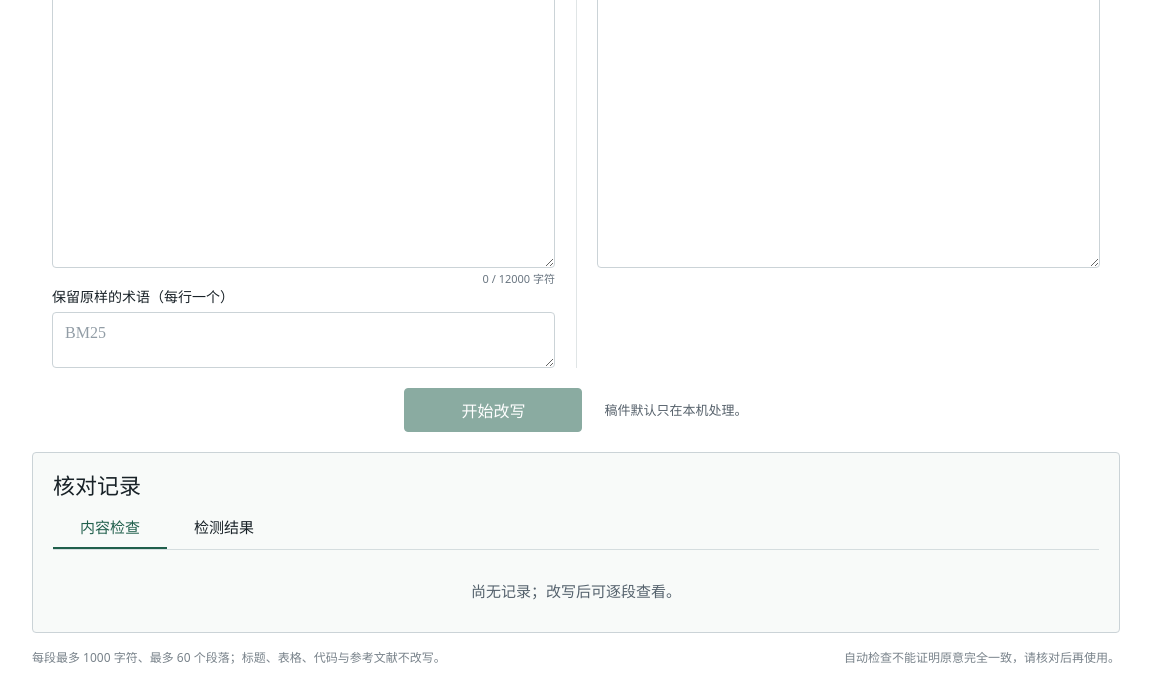
it: rechecks the edited text with current protected terms and displays the returned risks
(page scrolled)
In the text box labelled "保留原样的术语（每行一个）": (304, 340) [52,312,555,368], type "实验"
(page scrolled)
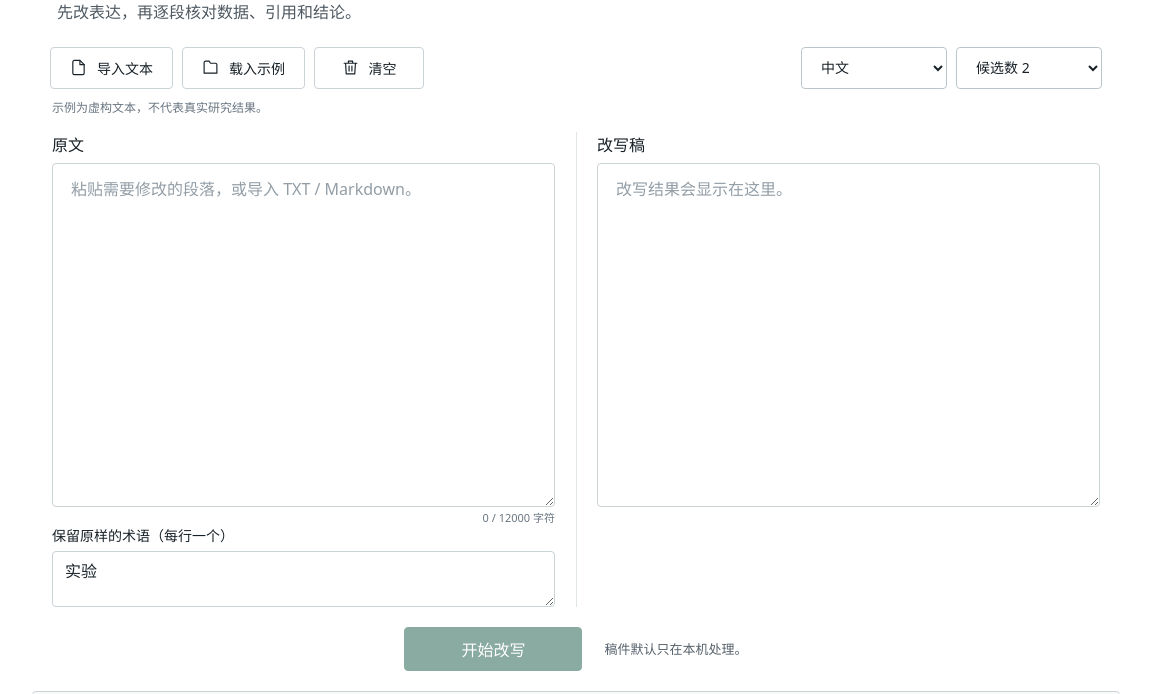
In the text box labelled "原文": (304, 335) [52,163,555,507], type "实验重复5次。"
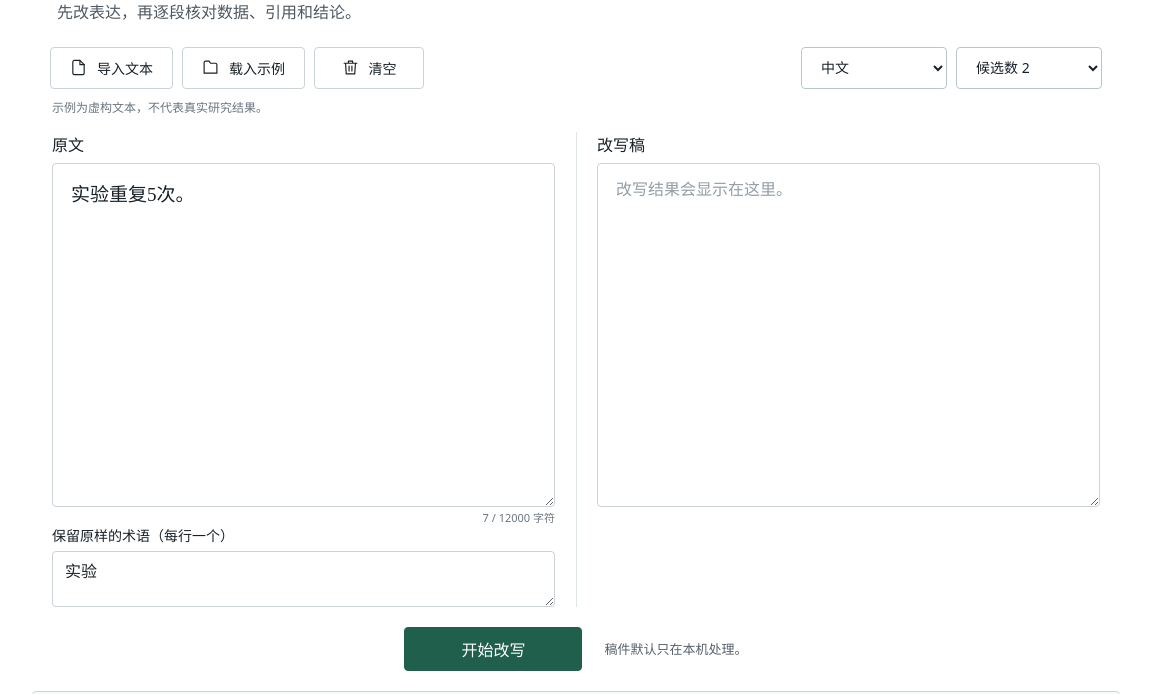
Click the button "开始改写": (494, 649) [404,627,582,671]
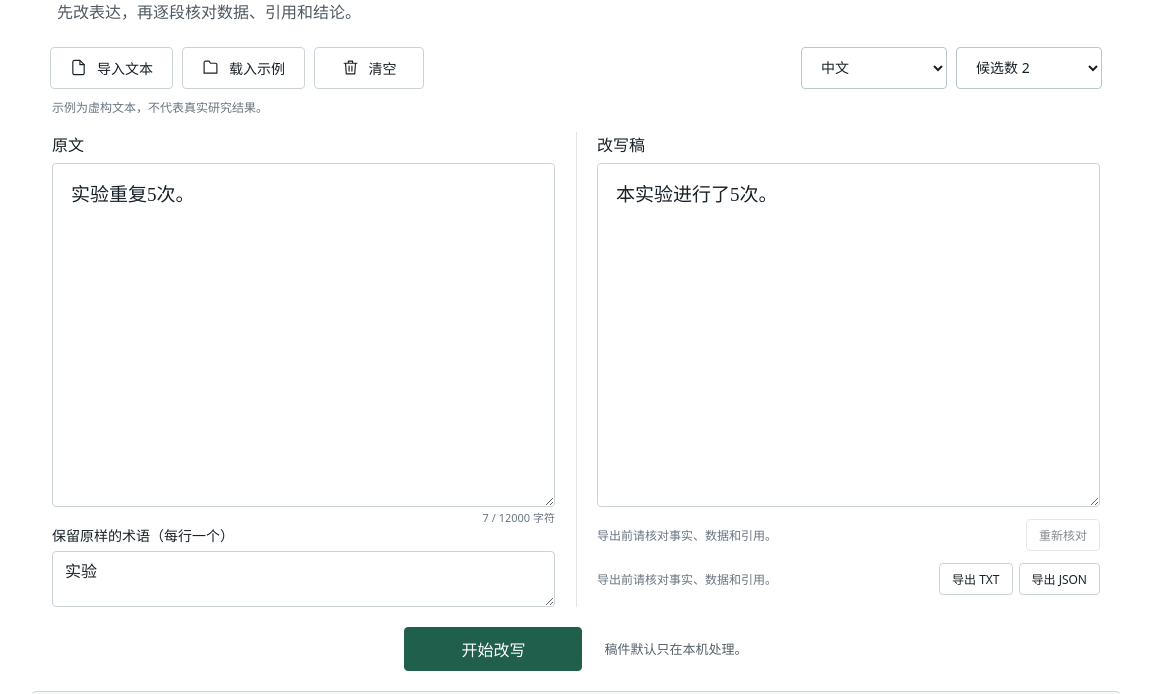
Check: the text box labelled "改写稿" holds "本实验进行了5次。"
Replace the text in the text box labelled "改写稿" with "用户修改后重复6次。": (848, 335) [597,163,1100,507]
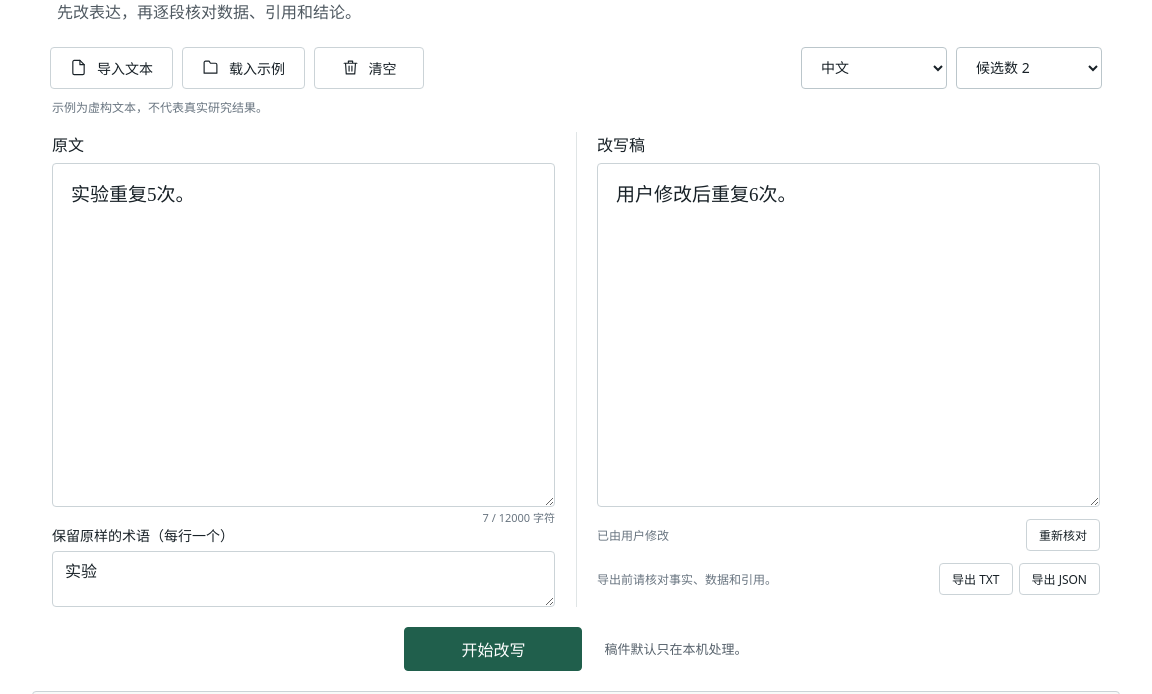
Click the button "重新核对": (1063, 535) [1026,519,1100,551]
(page scrolled)
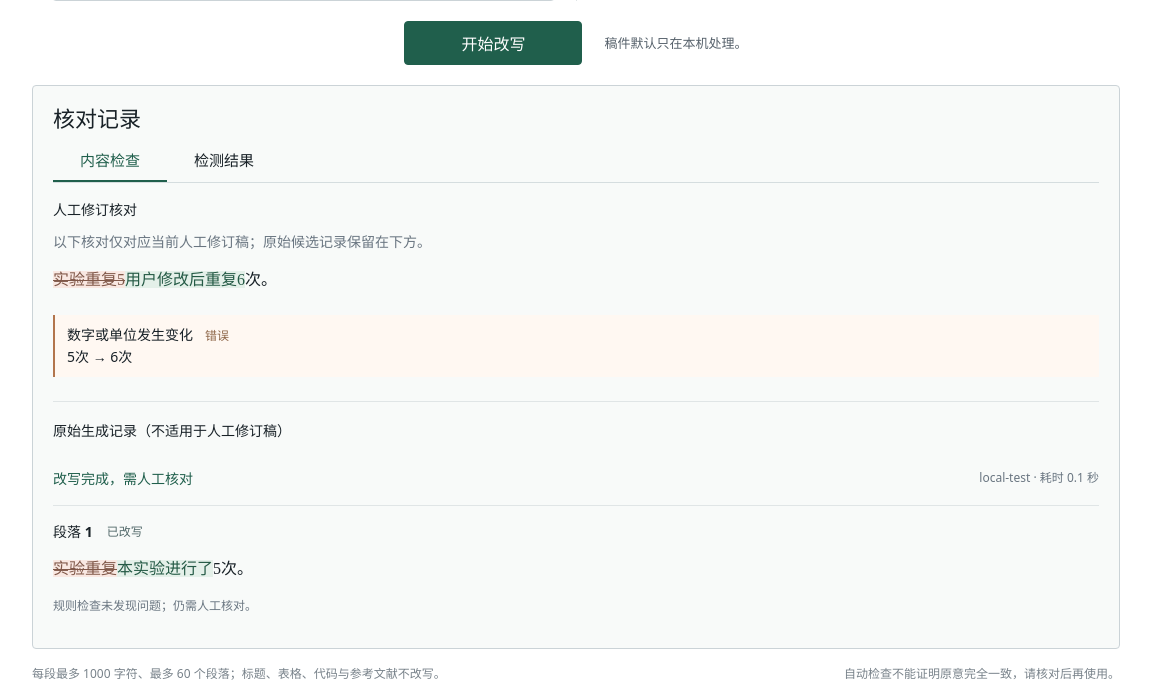
Check: the text "数字或单位发生变化" is shown, box [67,325,193,344]
